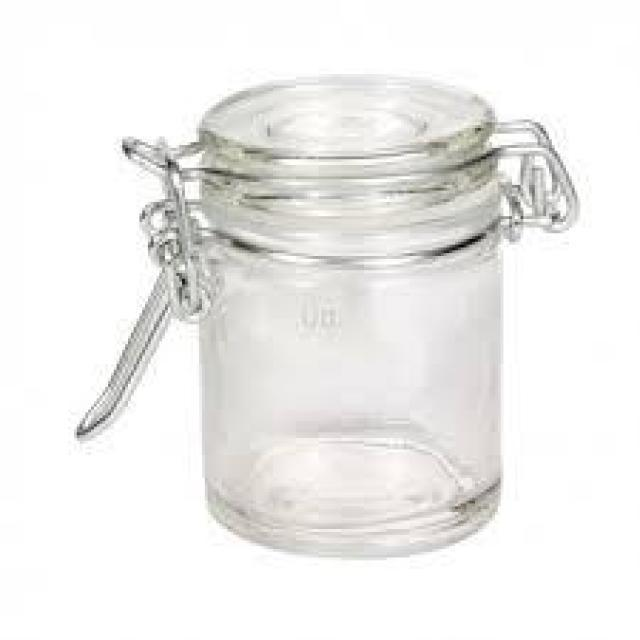Glass: (71, 71, 583, 562)
